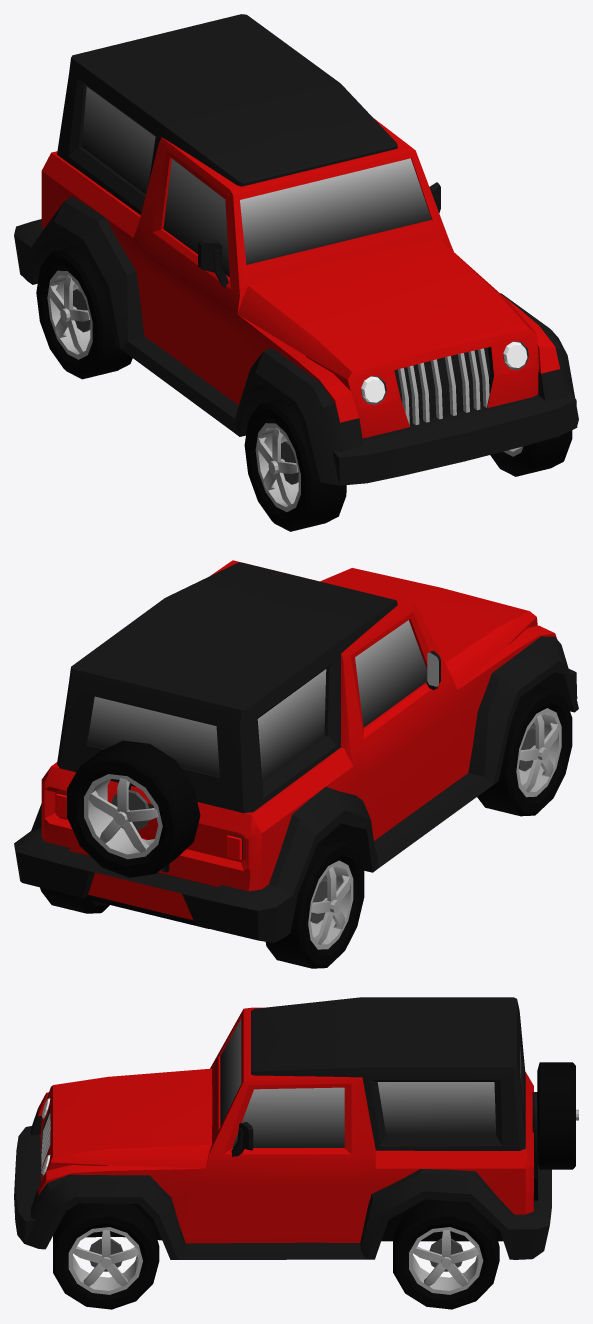
File: suv 1.fbx
3 views of the same model, one above another, from view 1: azimuth 30°, elevation 25°; view 2: azimuth 150°, elevation 25°; view 3: azimuth 270°, elevation 25° (orthographic). The views are drawn at different scales.
Visible parts, largest first — view 1: Plane, Cylinder.002, Cylinder.003, Cylinder; view 2: Plane, Cylinder.004, Cylinder.003, Cylinder.002, Cylinder.001; view 3: Plane, Cylinder.001, Cylinder, Cylinder.004, Cube.
Part boxes in pixels (x1,y1,x2,y2): Plane: (14, 14, 578, 485); Cylinder.002: (244, 399, 346, 531); Cylinder.003: (36, 245, 132, 379); Cylinder: (490, 430, 572, 476); Plane: (14, 560, 578, 942); Cylinder.004: (67, 740, 200, 877); Cylinder.003: (265, 837, 364, 968); Cylinder.002: (477, 685, 572, 816); Cylinder.001: (40, 887, 109, 913); Plane: (14, 997, 551, 1259); Cylinder.001: (393, 1200, 499, 1309); Cylinder: (53, 1203, 159, 1309); Cylinder.004: (537, 1062, 578, 1169); Cube: (532, 1092, 537, 1178).
Size of the model in its own units: 83.59 by 80.59 by 183.
Materials: 1 (1 with a texture image).
